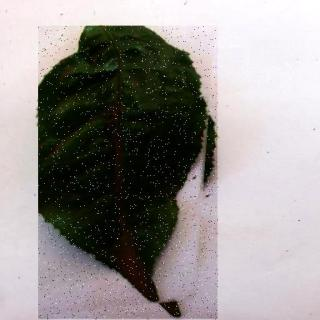Algal Leaf: (40, 27, 220, 320)
